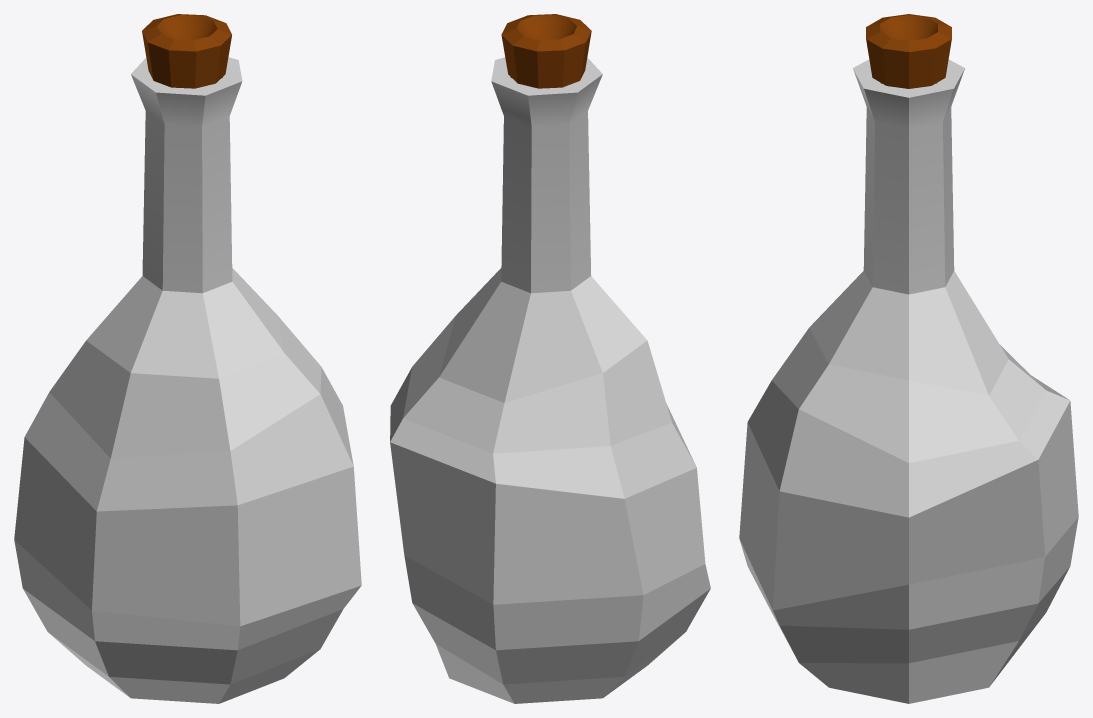
File: PotionBleu.fbx
3 views of the same model, side by side, from view 1: azimuth 30°, elevation 25°; view 2: azimuth 150°, elevation 25°; view 3: azimuth 270°, elevation 25° (orthographic).
Visible parts, largest first — view 1: polySurface1; view 2: polySurface1; view 3: polySurface1.
Boxes of the visible parts, left/top/right/bottom form: polySurface1: left=14, top=14, right=361, bottom=703; polySurface1: left=390, top=14, right=710, bottom=703; polySurface1: left=739, top=14, right=1078, bottom=703.
Bounding box in the file's own units: 1.92 × 4.02 × 1.95.
